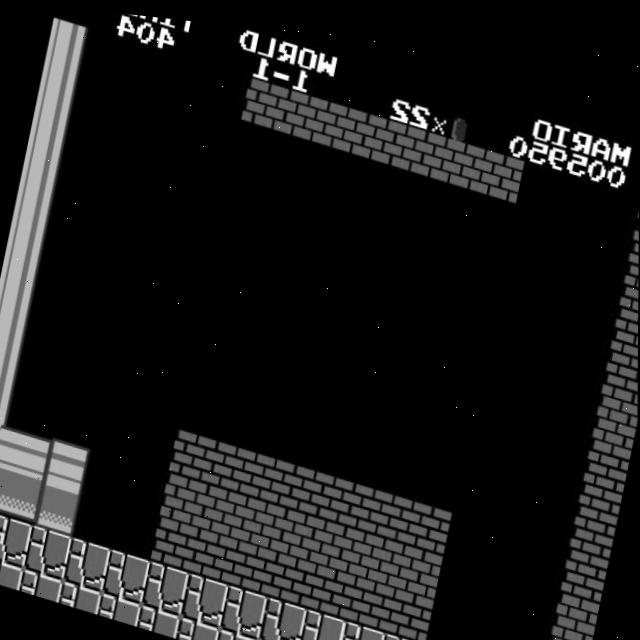1- brick_block: (355, 523, 405, 581), (397, 115, 447, 173), (316, 512, 366, 570), (229, 534, 279, 592), (279, 82, 329, 139), (240, 71, 290, 128), (168, 424, 218, 481), (150, 512, 200, 569), (358, 104, 407, 162), (277, 501, 326, 559), (268, 545, 317, 603), (319, 93, 368, 151), (190, 523, 239, 581), (160, 468, 209, 526), (579, 446, 628, 503), (561, 534, 610, 591), (476, 138, 525, 195), (395, 535, 444, 592), (386, 579, 435, 636), (437, 127, 486, 184), (347, 568, 396, 625), (308, 557, 357, 614), (247, 446, 296, 503), (238, 491, 287, 548), (208, 435, 257, 492), (199, 479, 248, 536), (404, 491, 453, 547), (365, 480, 414, 536), (326, 469, 375, 525), (286, 458, 335, 514), (570, 490, 618, 547), (588, 403, 636, 459), (552, 579, 600, 635), (597, 357, 638, 414), (606, 313, 638, 369), (614, 270, 639, 324), (543, 622, 592, 640), (624, 226, 639, 279)
14- pipe: (45, 15, 94, 73), (3, 424, 52, 481), (27, 104, 76, 161), (18, 148, 67, 205), (9, 192, 58, 249), (36, 60, 85, 116), (0, 237, 49, 293), (0, 468, 42, 525), (0, 280, 40, 337), (0, 325, 31, 381), (0, 371, 22, 425), (0, 416, 13, 469)
15- pipe_head: (42, 435, 91, 492), (33, 479, 82, 536)
17- undestructible_block: (180, 568, 230, 625), (102, 545, 151, 603), (63, 534, 112, 592), (24, 523, 73, 581), (220, 579, 269, 636), (142, 557, 191, 614), (259, 590, 309, 640), (298, 601, 348, 640), (0, 513, 34, 569), (97, 590, 143, 624), (58, 579, 104, 613), (137, 601, 182, 635), (19, 568, 64, 602), (338, 612, 387, 640), (176, 612, 221, 640), (376, 622, 426, 640), (0, 558, 25, 590), (215, 623, 260, 640), (416, 634, 466, 640), (254, 634, 299, 640)
